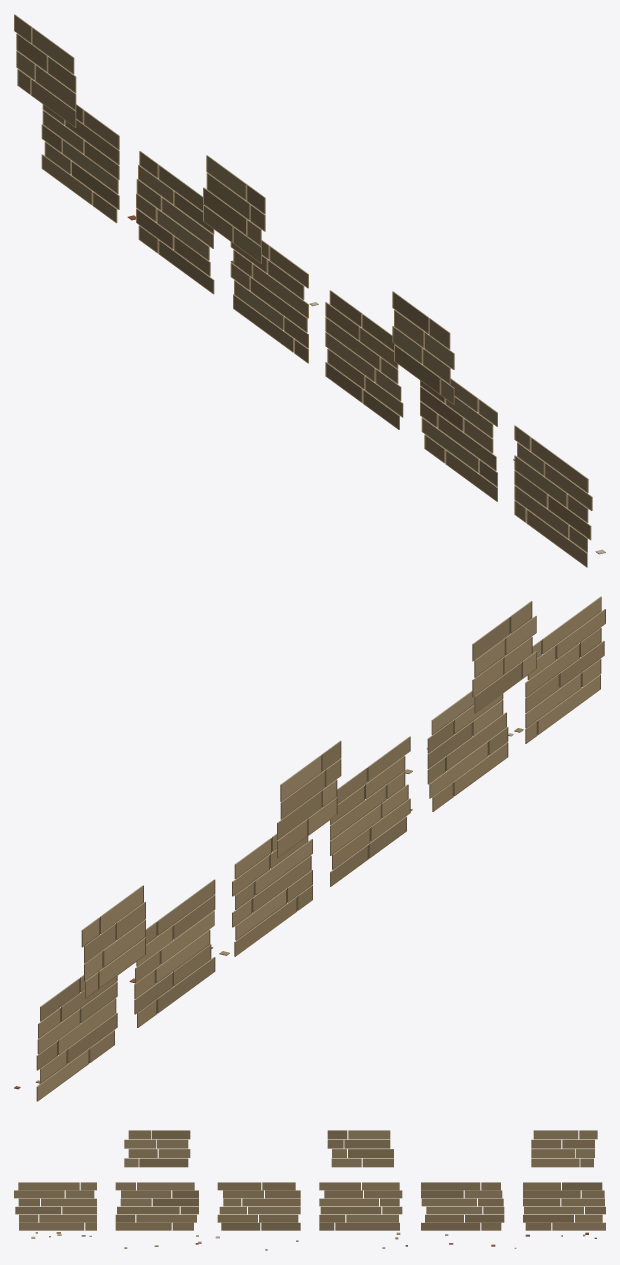
The model's file is cliff_dwelling_row_detail2.glb.
3 views of the same model, one above another, from view 1: azimuth 30°, elevation 25°; view 2: azimuth 150°, elevation 25°; view 3: azimuth 270°, elevation 25° (orthographic). The views are drawn at different scales.
Parts seen in each view (by area): view 1: cliff_dwelling_row_detail2; view 2: cliff_dwelling_row_detail2; view 3: cliff_dwelling_row_detail2.
Boxes of the visible parts, x1,y1,x2,y2 form: cliff_dwelling_row_detail2: (14,14,605,567); cliff_dwelling_row_detail2: (14,596,605,1101); cliff_dwelling_row_detail2: (14,1130,605,1250).
Bounding box in the file's own units: 4.06 × 5.94 × 34.9.
